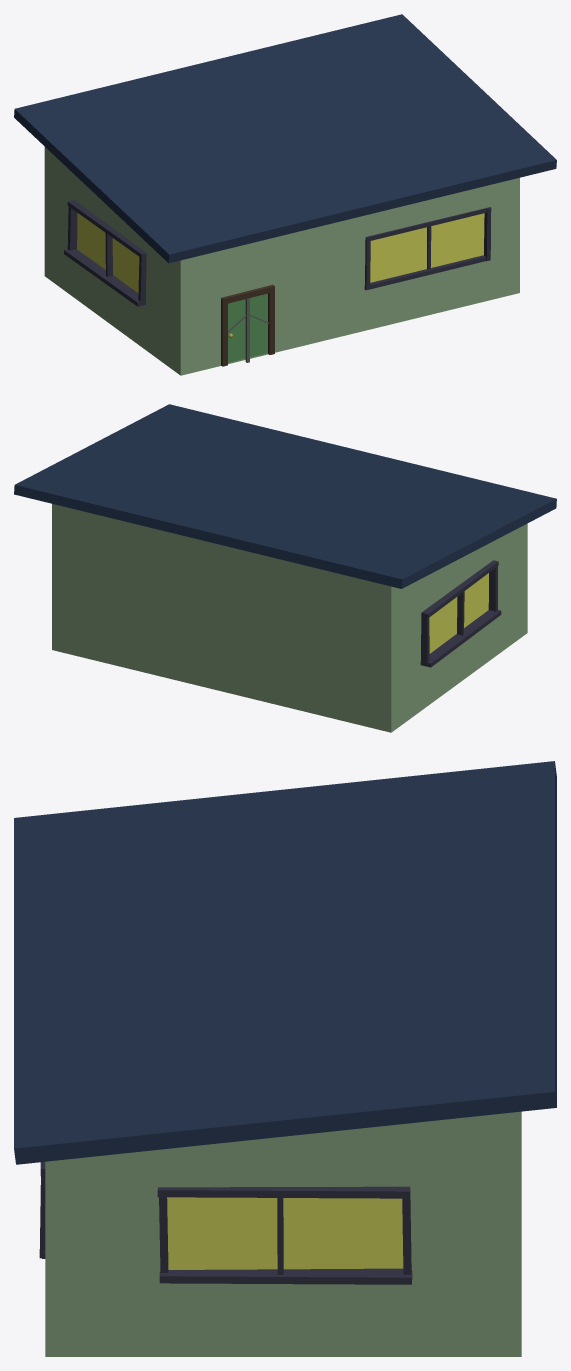
File: House11.fbx
3 views of the same model, one above another, from view 1: azimuth 30°, elevation 25°; view 2: azimuth 150°, elevation 25°; view 3: azimuth 270°, elevation 25° (orthographic). The views are drawn at different scales.
Parts seen in each view (by area): view 1: Cube.052, Cube, Cube.003, Cube.001, Cube.074, Cube.054, Cube.064, Cube.053, Cube.063, Cube.068; view 2: Cube, Cube.052, Cube.001, Cube.054, Cube.053; view 3: Cube.052, Cube, Cube.002, Cube.059, Cube.058.
Boxes of the visible parts, <box> form: Cube.052: <box>14,14,556,263</box>; Cube: <box>44,147,519,375</box>; Cube.003: <box>370,213,484,282</box>; Cube.001: <box>77,213,139,293</box>; Cube.074: <box>228,293,267,362</box>; Cube.054: <box>64,249,145,306</box>; Cube.064: <box>364,255,486,289</box>; Cube.053: <box>67,200,146,258</box>; Cube.063: <box>365,207,491,240</box>; Cube.068: <box>221,298,227,366</box>; Cube: <box>52,504,527,732</box>; Cube.052: <box>14,404,556,588</box>; Cube.001: <box>429,573,488,653</box>; Cube.054: <box>420,610,501,667</box>; Cube.053: <box>421,560,498,618</box>; Cube.052: <box>14,761,556,1164</box>; Cube: <box>45,1111,521,1356</box>; Cube.002: <box>167,1197,403,1269</box>; Cube.059: <box>159,1268,412,1284</box>; Cube.058: <box>157,1186,410,1198</box>.
Size of the model in its own units: 1401 by 576 by 972.
